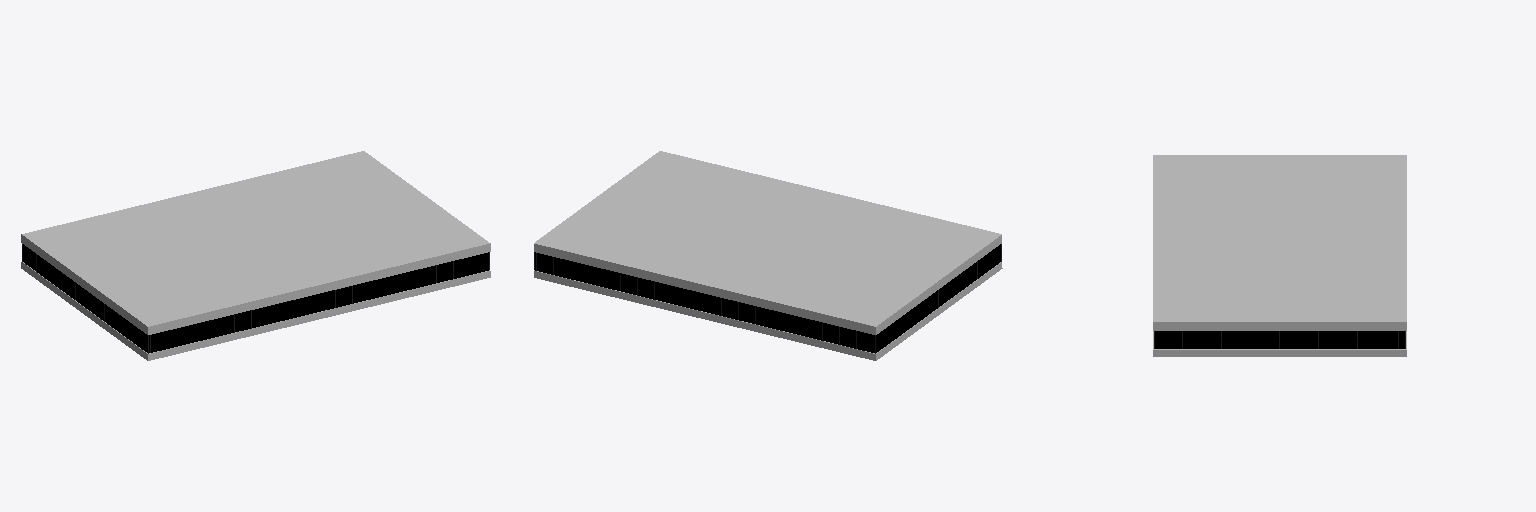
The model's file is floor9ft.obj.
3 renders of one model, left to right at view 1: azimuth 30°, elevation 25°; view 2: azimuth 150°, elevation 25°; view 3: azimuth 270°, elevation 25°, orthographic.
Parts seen in each view (by area): view 1: Ceiling, FrontWall_BackWall, LeftWall; view 2: Ceiling, BackWall, LeftWall; view 3: Ceiling, RightWall_LeftWall.
Part boxes in pixels (bbox=[...]): Ceiling: bbox=[21, 151, 489, 326]; FrontWall_BackWall: bbox=[147, 243, 490, 360]; LeftWall: bbox=[22, 235, 147, 359]; Ceiling: bbox=[535, 151, 1001, 325]; BackWall: bbox=[534, 243, 876, 360]; LeftWall: bbox=[876, 235, 1001, 359]; Ceiling: bbox=[1153, 155, 1406, 322]; RightWall_LeftWall: bbox=[1154, 322, 1405, 356].
Bounding box in the file's own units: 38.11 × 3.66 × 24.39.